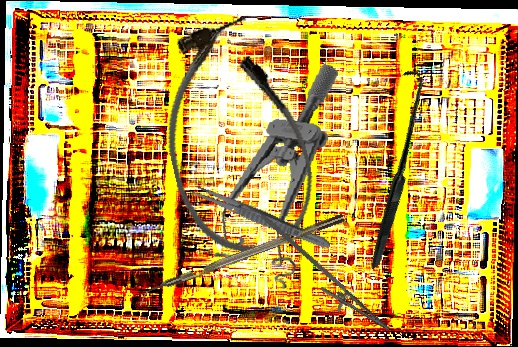Cannula: (143, 7, 327, 269)
Chopper: (134, 213, 349, 308)
Dressing Forceps: (186, 181, 333, 253)
Hook Surgical: (290, 66, 496, 270)
Needle Holder: (240, 212, 403, 343)
Speculum: (210, 50, 340, 295)
